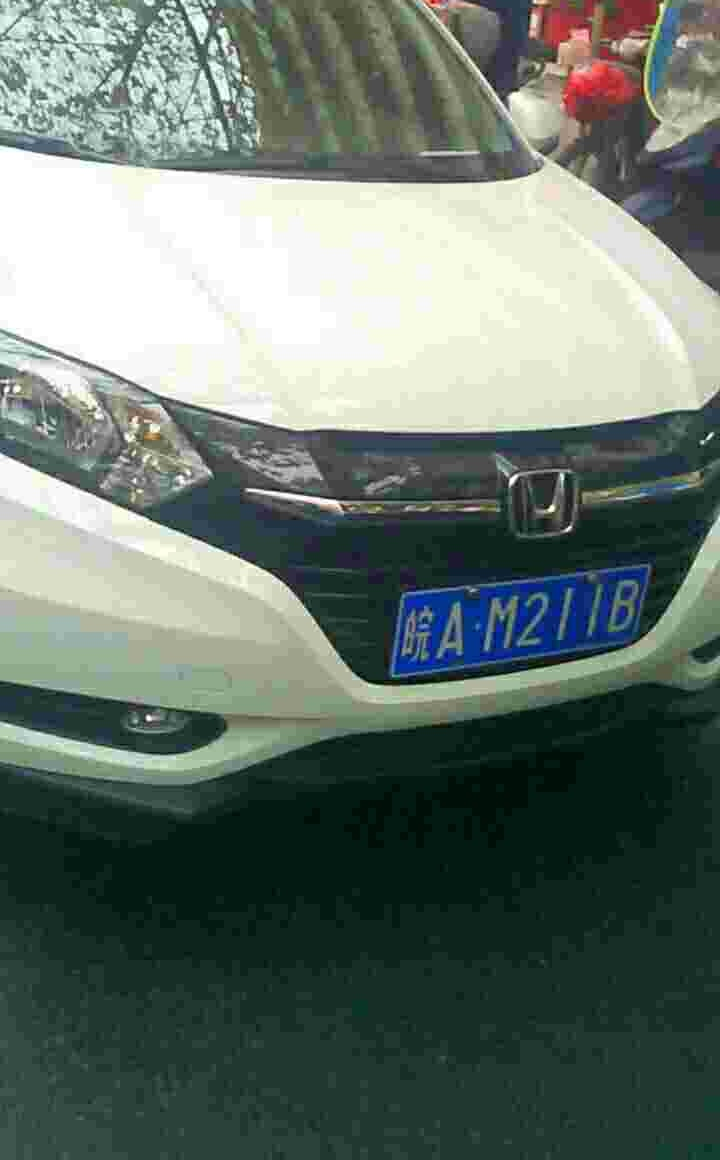license_plate: (383, 566, 648, 688)
